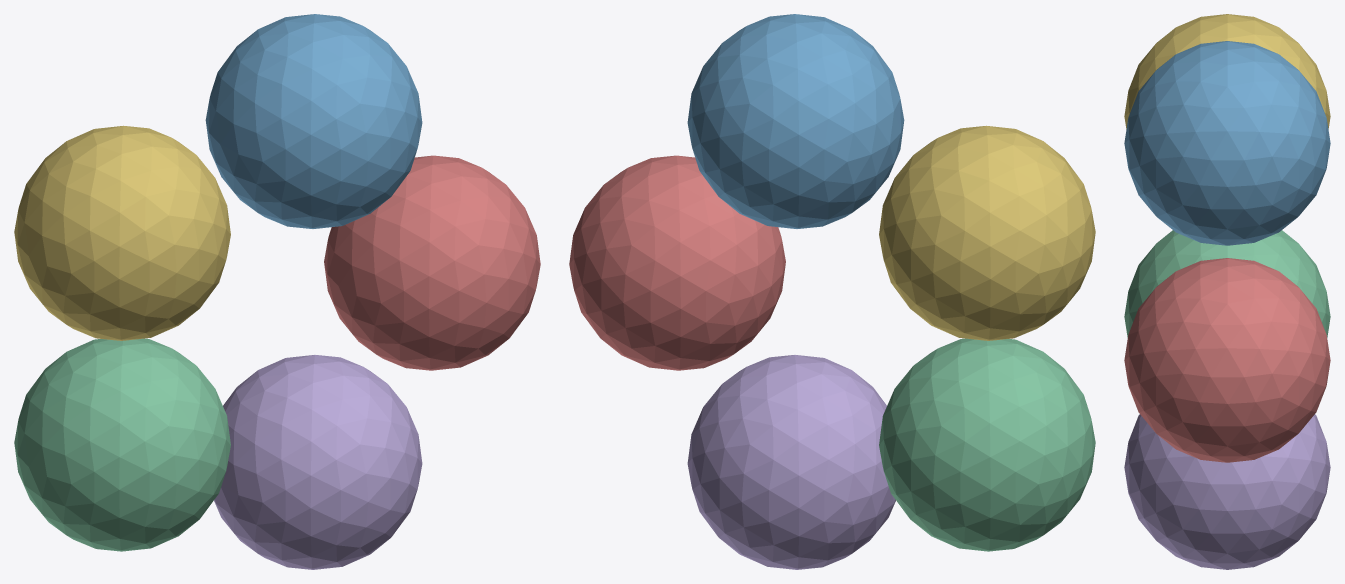
The model's file is count5.glb.
3 renders of one model, left to right at view 1: azimuth 30°, elevation 25°; view 2: azimuth 150°, elevation 25°; view 3: azimuth 270°, elevation 25°, orthographic. The views are drawn at different scales.
Visible parts, largest first — view 1: geometry_0; view 2: geometry_0; view 3: geometry_0.
Part boxes in pixels (x1,y1,x2,y2): geometry_0: (14,14,540,569); geometry_0: (569,14,1095,569); geometry_0: (1124,14,1330,569).
Size of the model in its own units: 0.8592 by 0.8867 by 0.3243.
